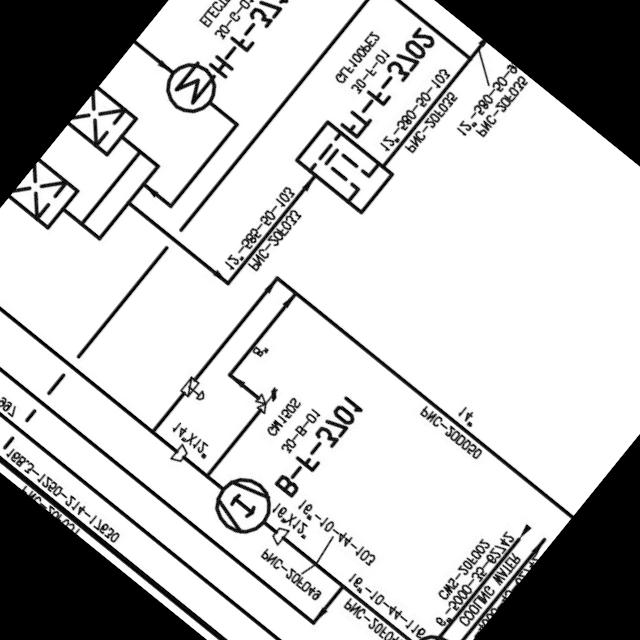B: (201, 464, 287, 550)
FT1: (285, 111, 404, 225)
HE: (154, 51, 230, 128), (395, 623, 464, 640)
RPV: (246, 376, 288, 422)
SP: (164, 440, 193, 470)
